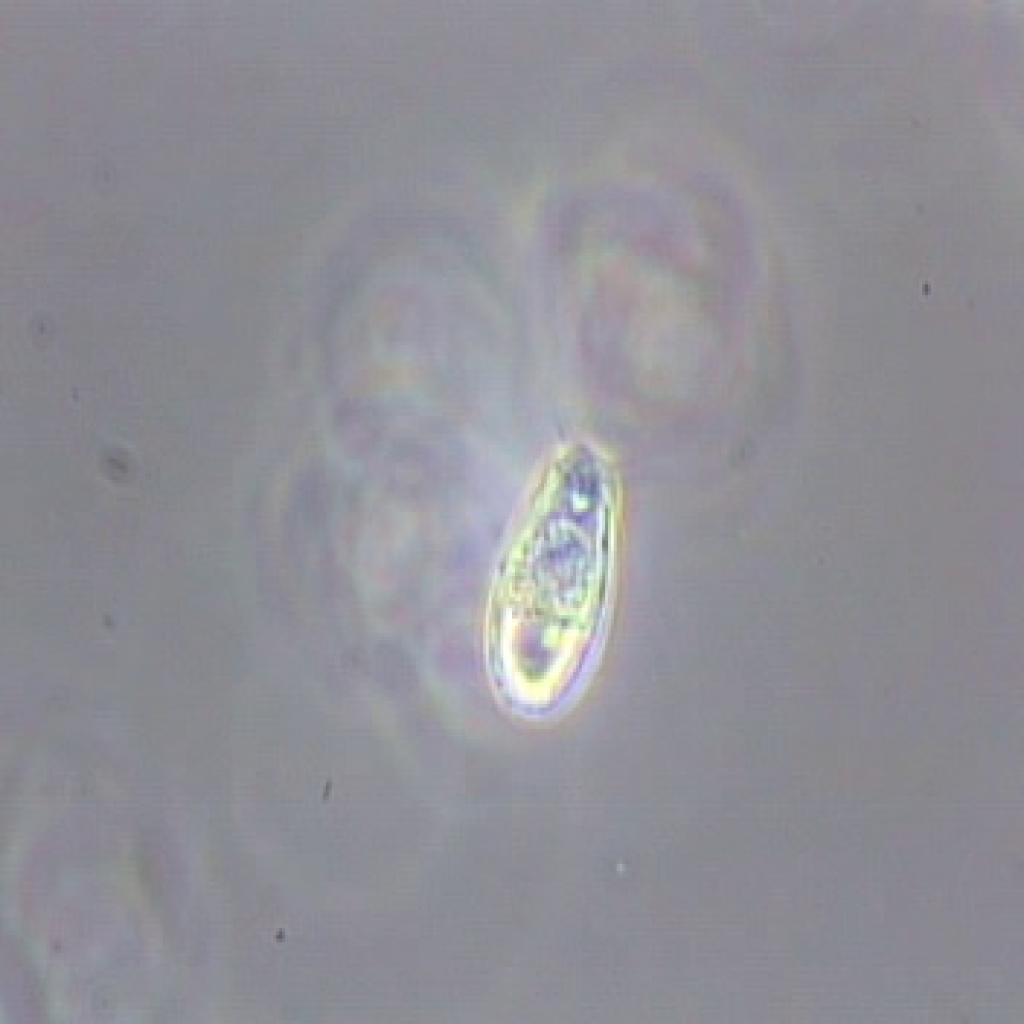Euglypha: (477, 410, 637, 738)
